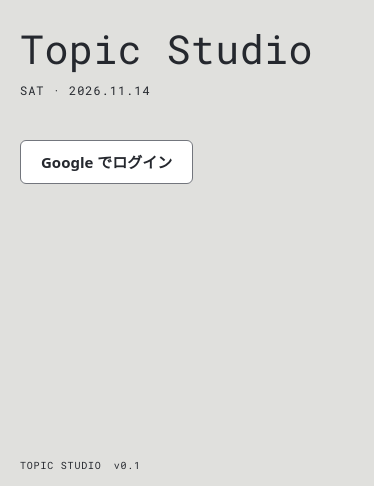
ログインの画面 › Firebase の設定が仮の値の時は、ログインを始めずに「まだ公開の準備ができていません」と出す
The width and height of the screenshot is (374, 486).
Click the button with test id "login-google".
click(107, 162)  # box [20,140,193,184]
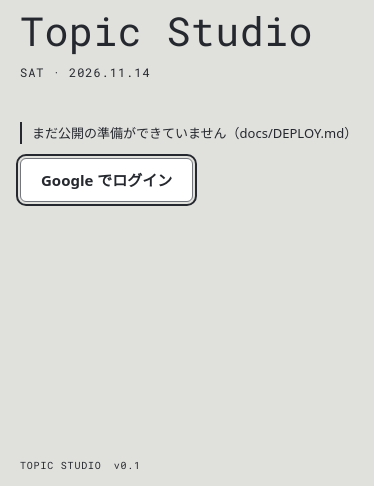
Expected: the message reads "まだ公開の準備ができていません（docs/DEPLOY.md）", [32,124,357,142]
